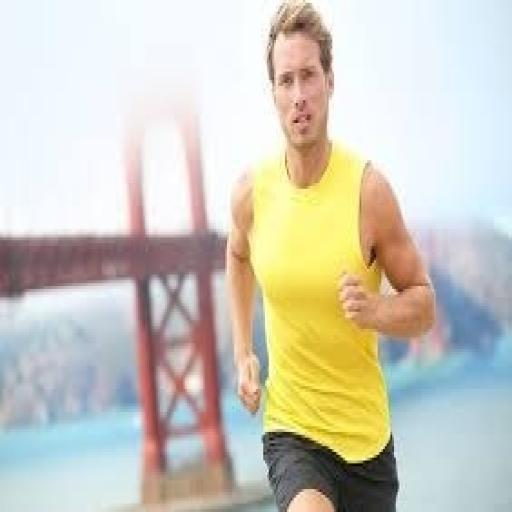running: (224, 0, 438, 509)
